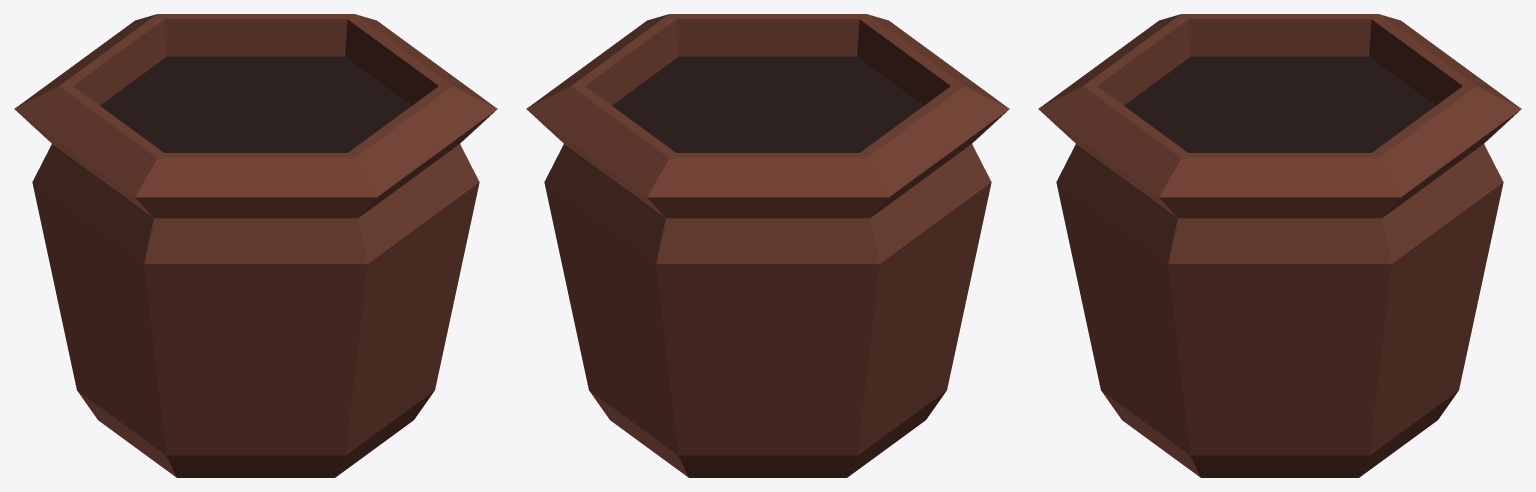
File: MBJ_PlantPack01_Pot04_LOD1_v001.fbx
The picture shows the model from 3 angles, left to right: view 1: azimuth 30°, elevation 25°; view 2: azimuth 150°, elevation 25°; view 3: azimuth 270°, elevation 25°; orthographic projection.
Parts seen in each view (by area): view 1: PlantPot04_A.001; view 2: PlantPot04_A.001; view 3: PlantPot04_A.001.
Part boxes in pixels (box(x1,y1,x2,y2)): PlantPot04_A.001: box(14, 14, 497, 477); PlantPot04_A.001: box(526, 14, 1009, 477); PlantPot04_A.001: box(1038, 14, 1521, 477).
Size of the model in its own units: 51.87 by 45.65 by 59.89.
